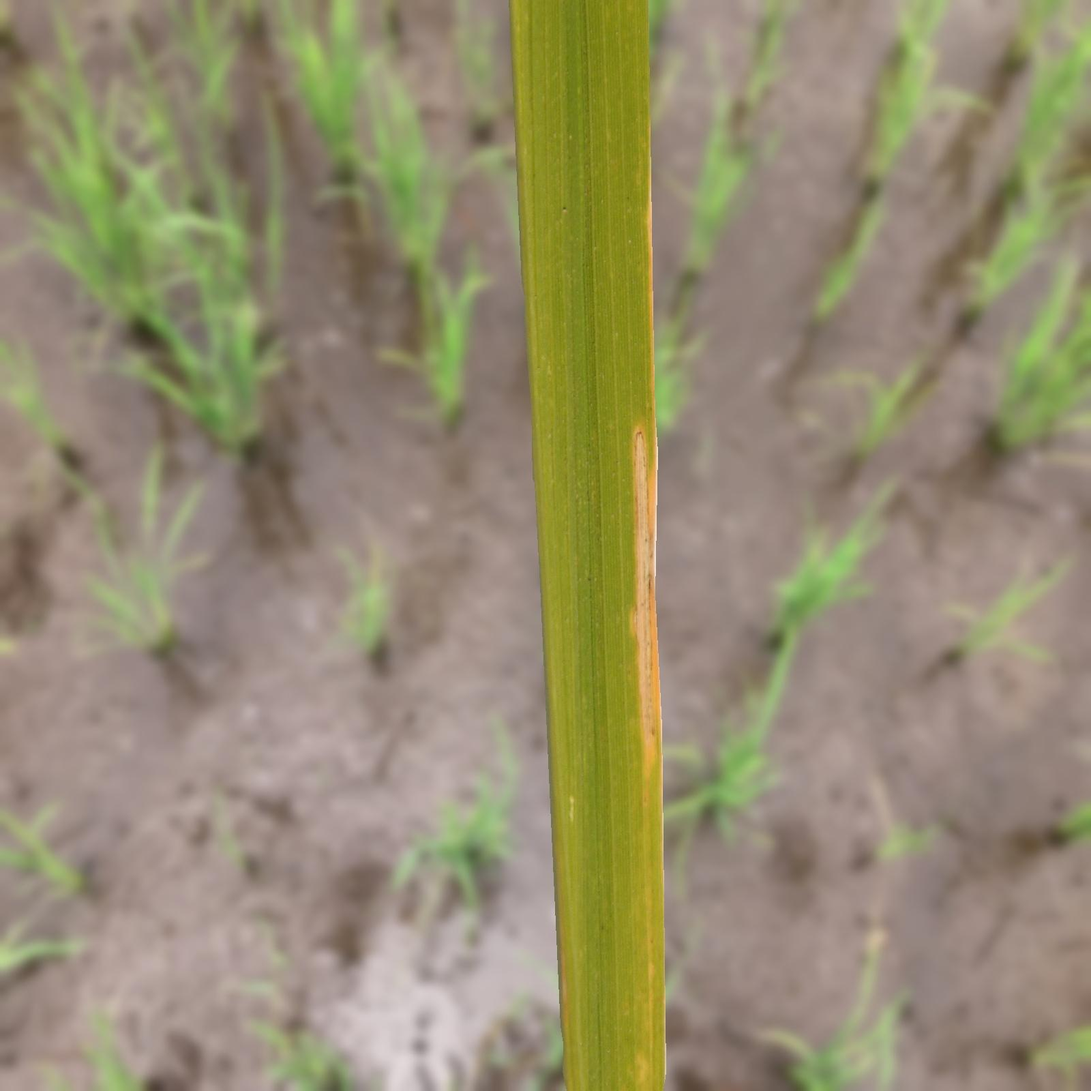BLS: (629, 175, 657, 808)
LEAF: (509, 0, 666, 1090)
